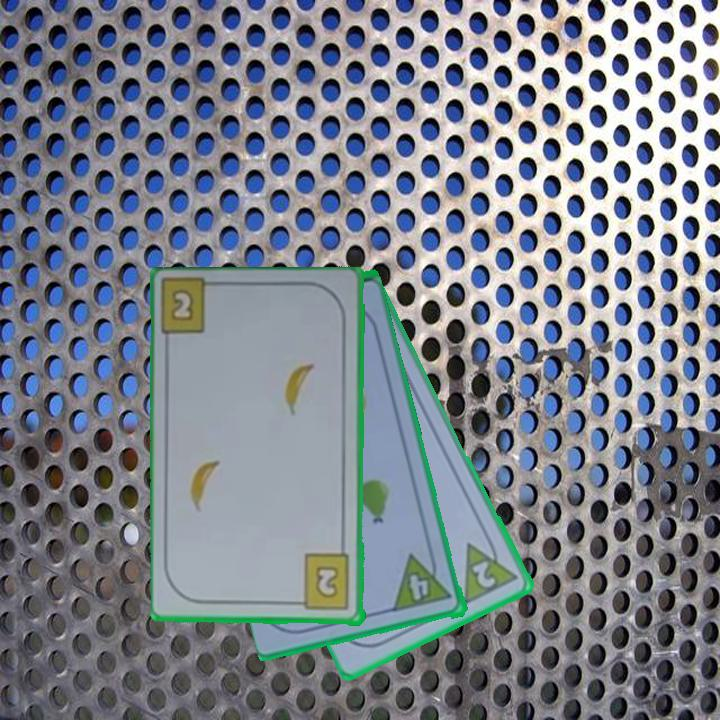2b: (291, 552, 353, 613), (168, 289, 197, 324)
2p: (460, 531, 522, 608)
4p: (390, 547, 455, 615)
